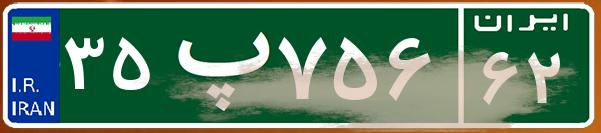2: (525, 38, 570, 115)
3: (57, 26, 110, 107)
5: (330, 28, 385, 110), (110, 28, 158, 105)
6: (385, 28, 445, 110), (475, 38, 525, 113)
7: (273, 28, 330, 110)
پ: (158, 15, 273, 115)
